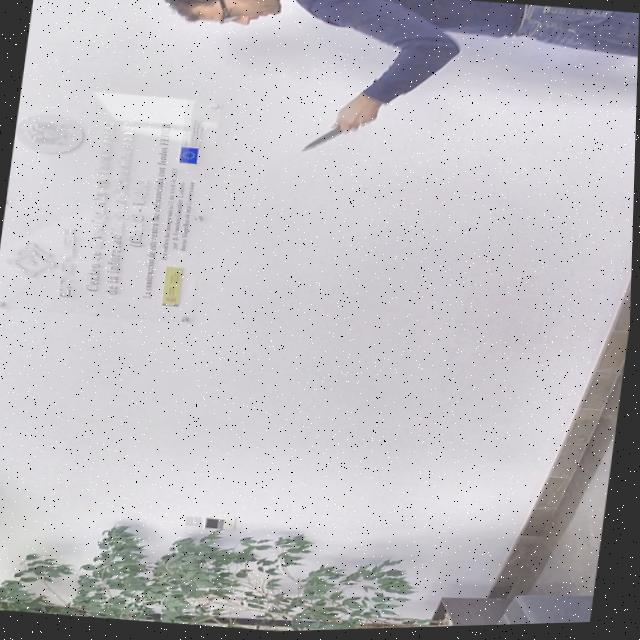knife: (296, 124, 352, 160)
